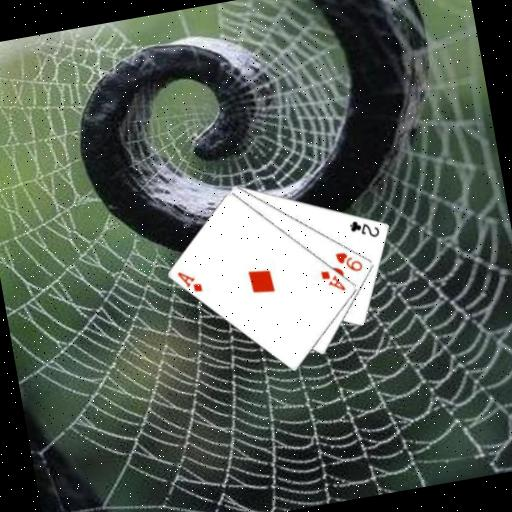2C: (346, 214, 382, 243)
9H: (332, 245, 365, 276)
AD: (317, 264, 348, 296), (173, 265, 204, 297)
